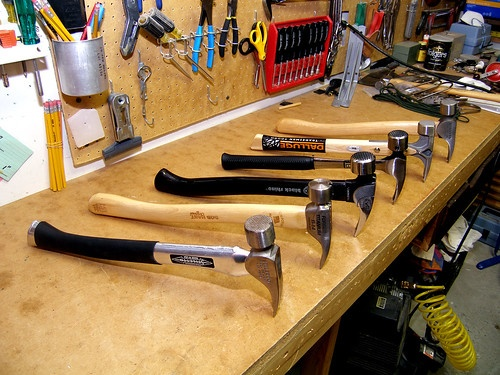hammer: (24, 215, 284, 322), (87, 179, 334, 269), (154, 154, 381, 225), (220, 130, 410, 203), (277, 97, 460, 160), (250, 120, 438, 180)
